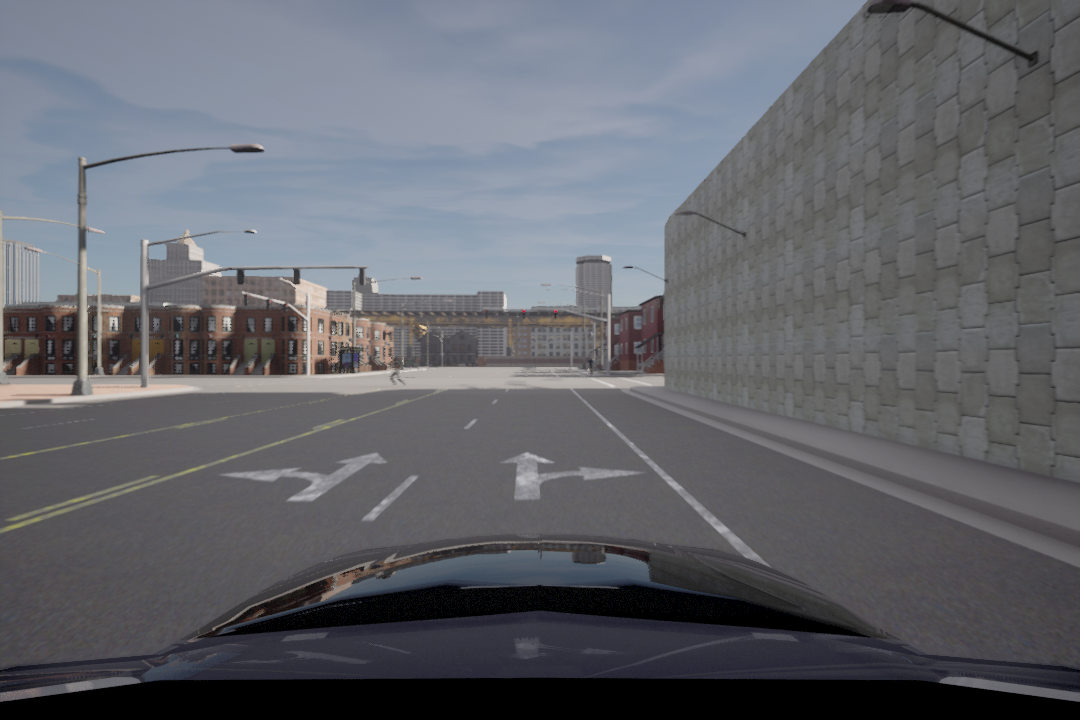RoadSign_forward_left: (224, 445, 389, 504)
RoadSign_forward_right: (478, 442, 644, 505)
